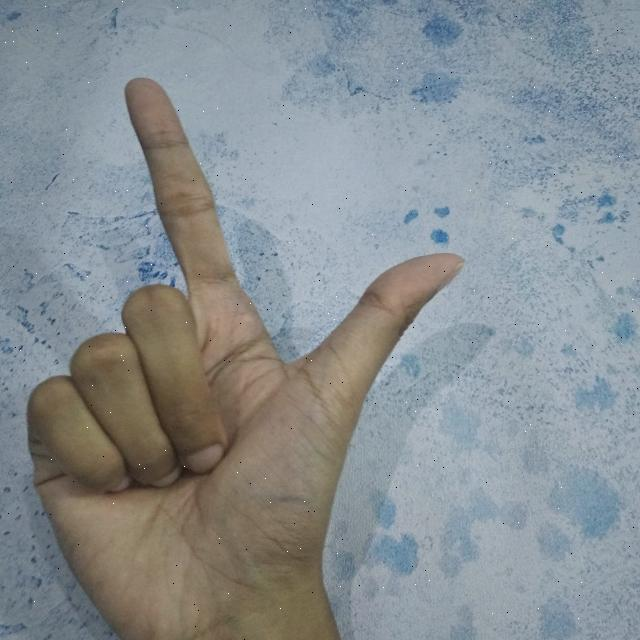L: (19, 66, 465, 640)
